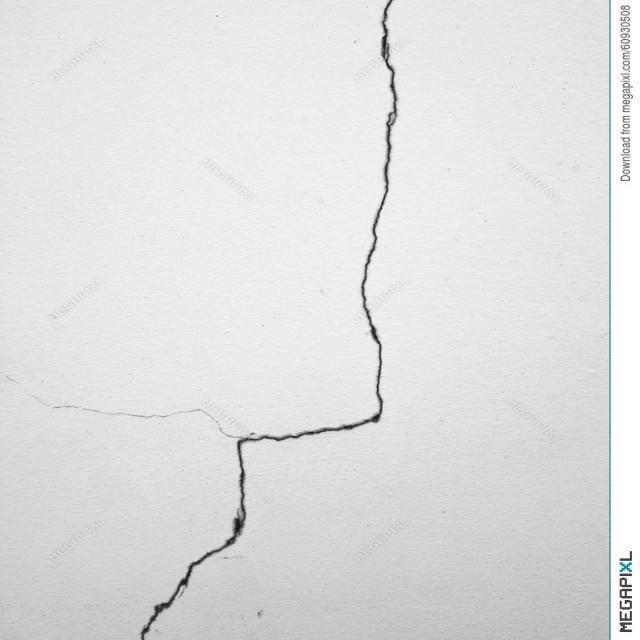minor crack: (213, 414, 266, 441)
moderate crack: (358, 15, 394, 418), (150, 486, 243, 631), (238, 362, 386, 445), (0, 380, 223, 427), (378, 3, 397, 100), (232, 442, 248, 536), (218, 552, 245, 559)
severe crack: (128, 15, 393, 632), (386, 8, 604, 344), (364, 314, 382, 366), (169, 407, 222, 423), (386, 107, 397, 126), (358, 304, 371, 319)
